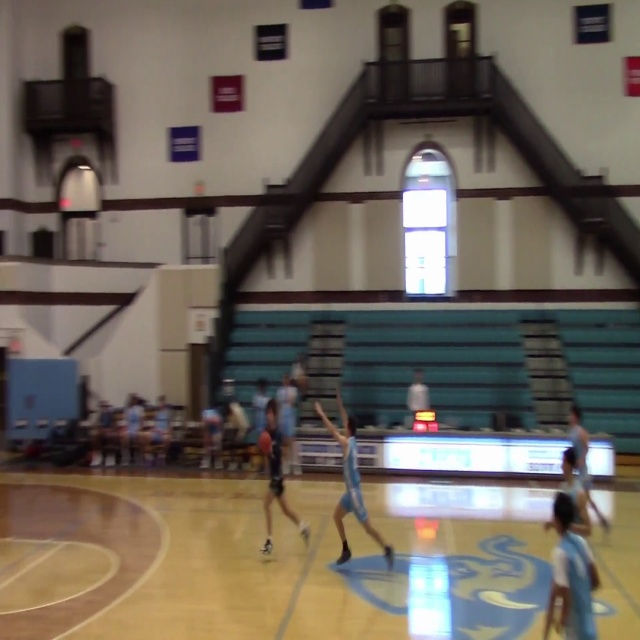Basketball: (257, 430, 273, 456)
